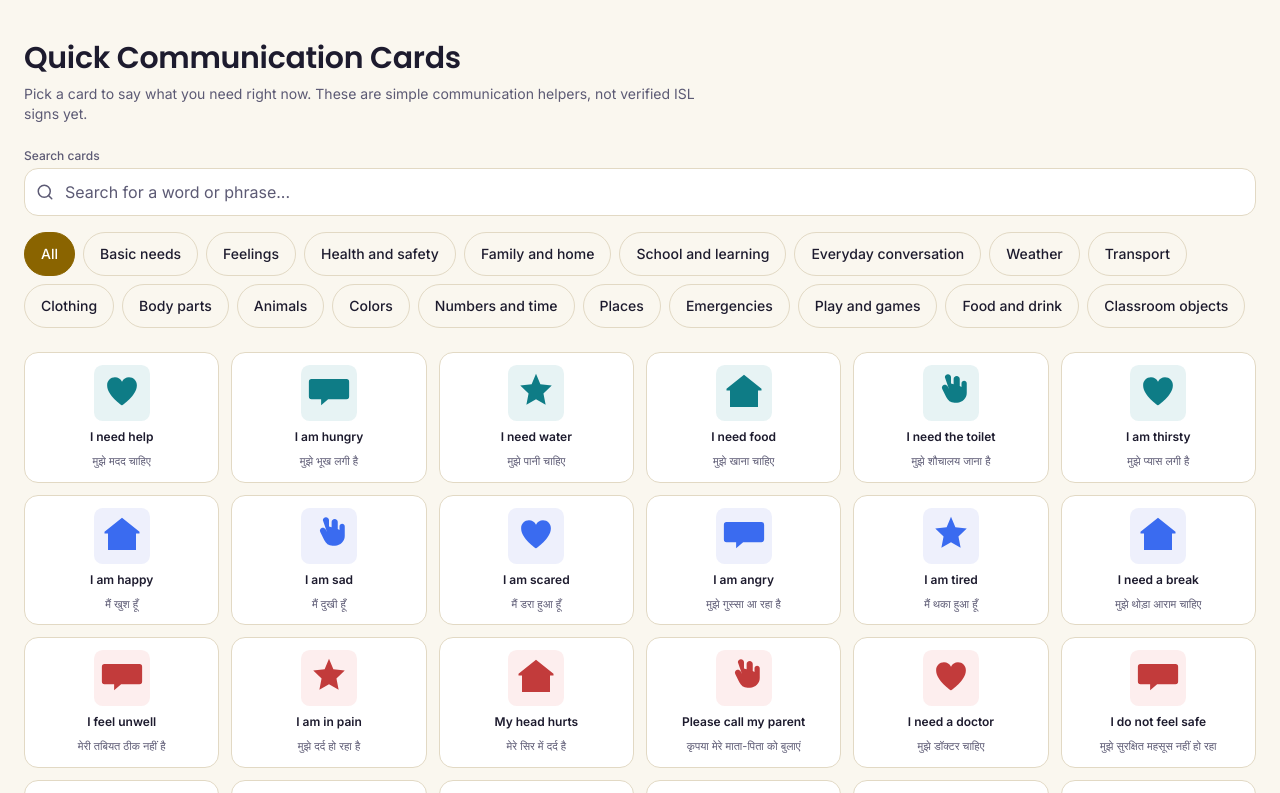
Scenario: CardsClient › does not crash on special-character search input and shows the empty state gracefully
The image size is (1280, 793).
Click the field labelled "Search cards" at (640, 192), box left=24, top=168, right=1256, bottom=216
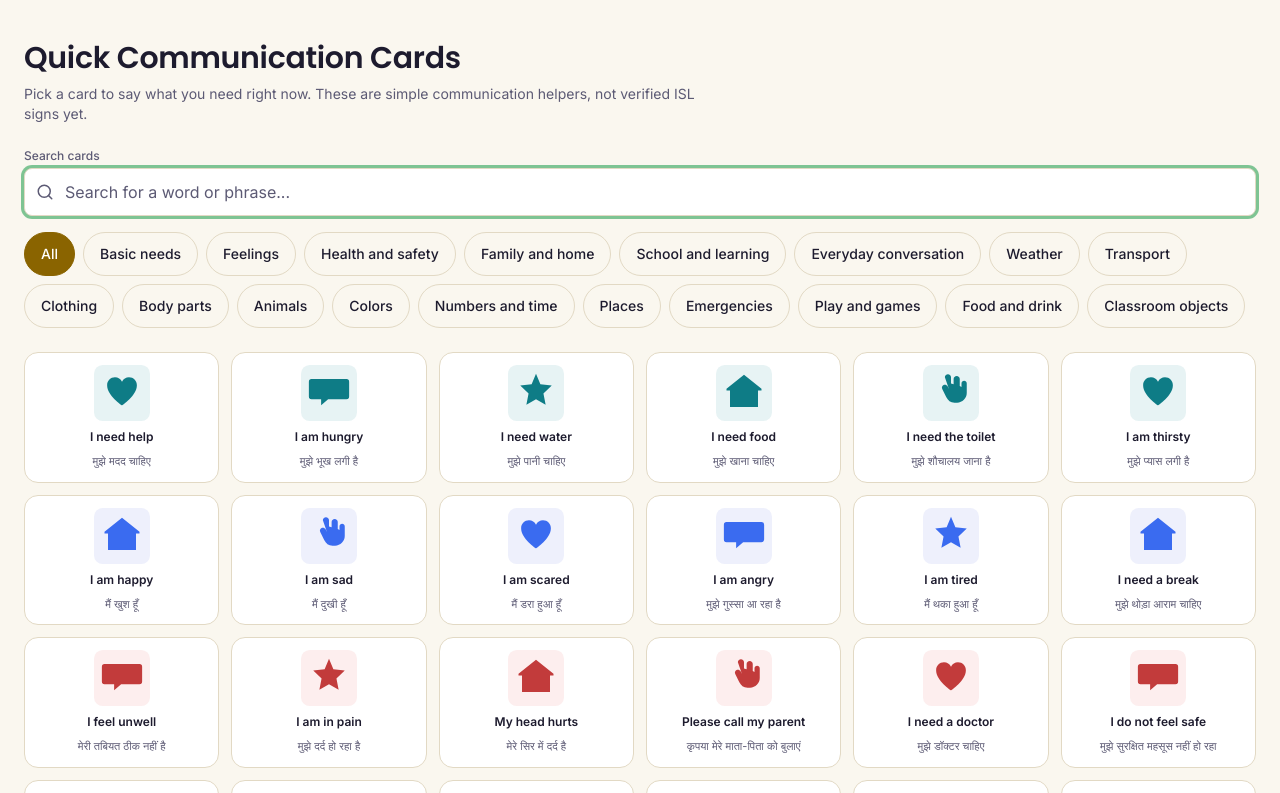
Type keys "???***[ [ ["
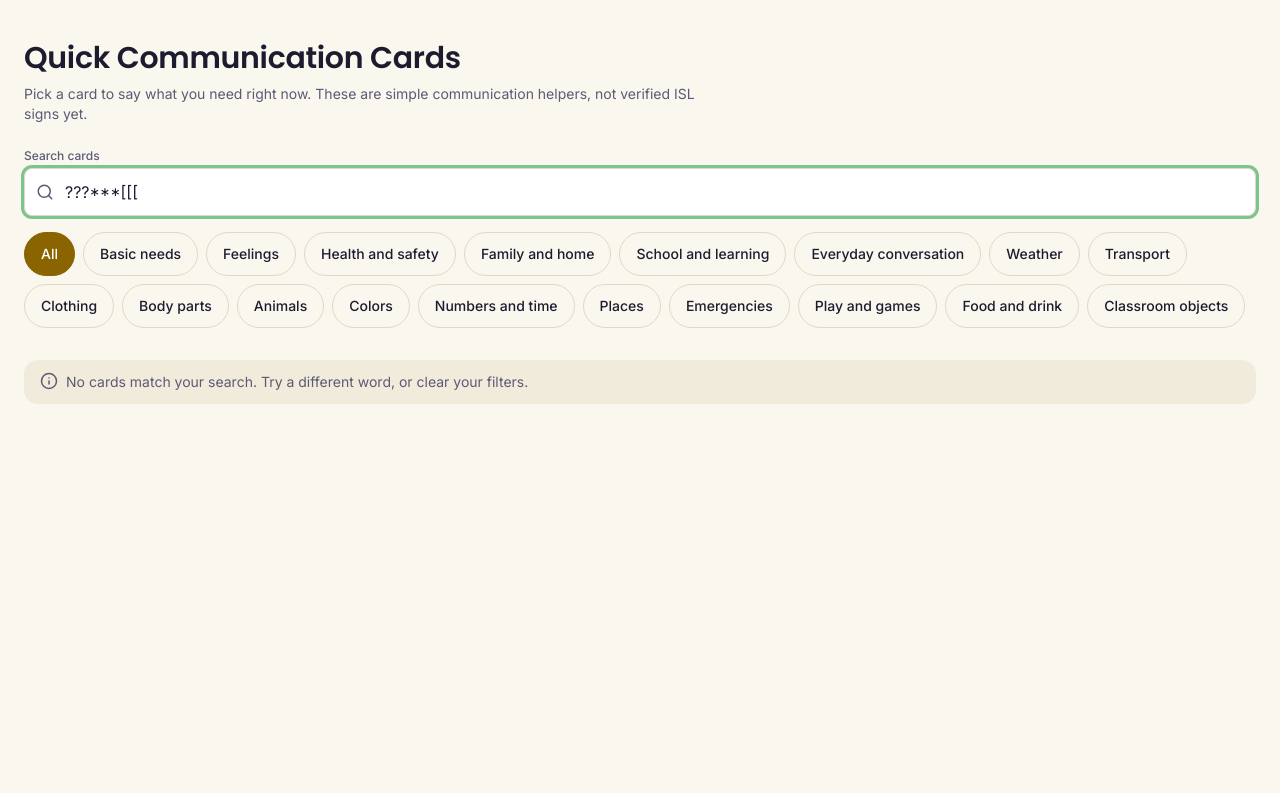
Expected: the text "No cards match your search" is shown, left=66, top=373, right=528, bottom=390
